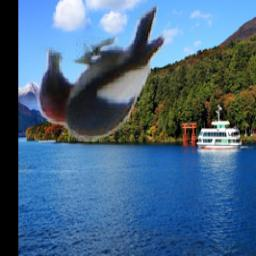Woodpecker: (34, 3, 169, 143)
